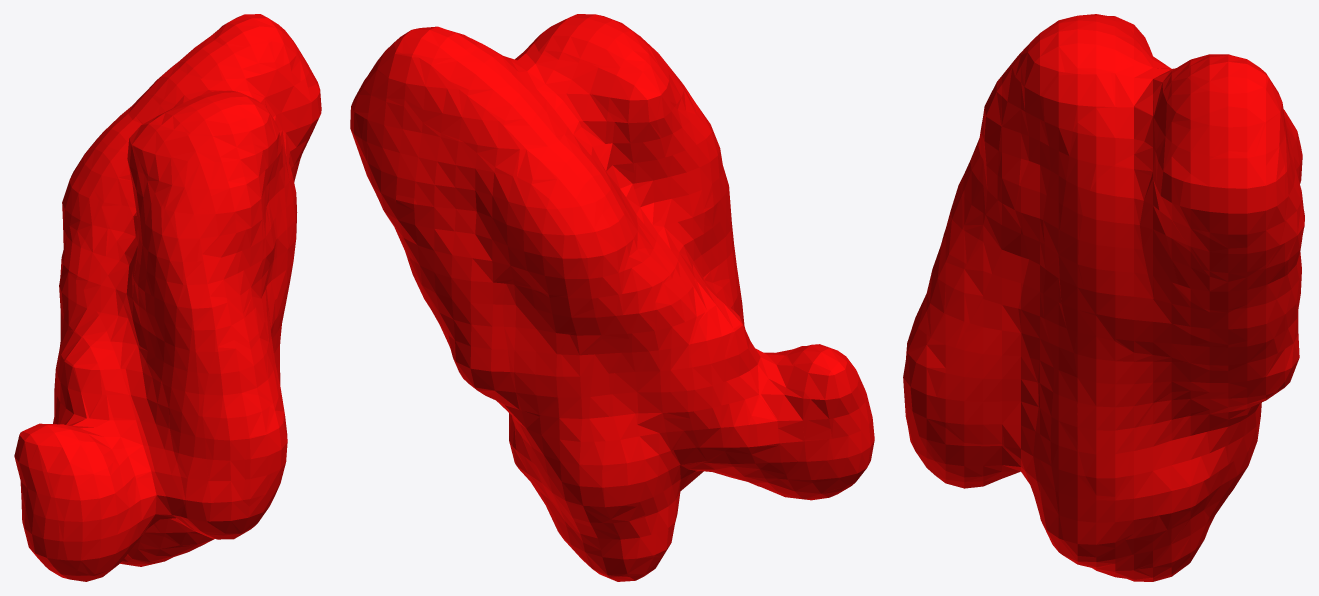
The model's file is yqjE_coarse.dae.
The picture shows the model from 3 angles, left to right: view 1: azimuth 30°, elevation 25°; view 2: azimuth 150°, elevation 25°; view 3: azimuth 270°, elevation 25°; orthographic projection. The views are drawn at different scales.
Parts seen in each view (by area): view 1: yqjE; view 2: yqjE; view 3: yqjE.
Part boxes in pixels (bbox=[...]): yqjE: bbox=[14, 14, 321, 581]; yqjE: bbox=[350, 14, 874, 581]; yqjE: bbox=[903, 14, 1304, 581].
Bounding box in the file's own units: 46.53 × 57.91 × 35.14.
